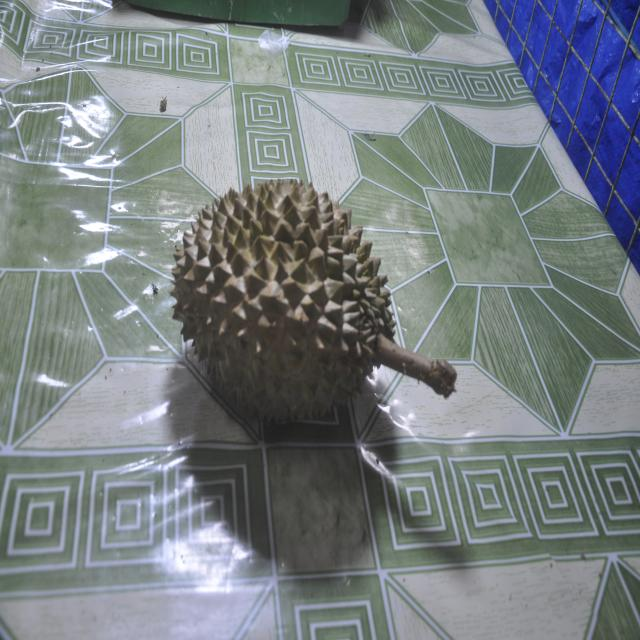mature: (171, 180, 457, 420)
